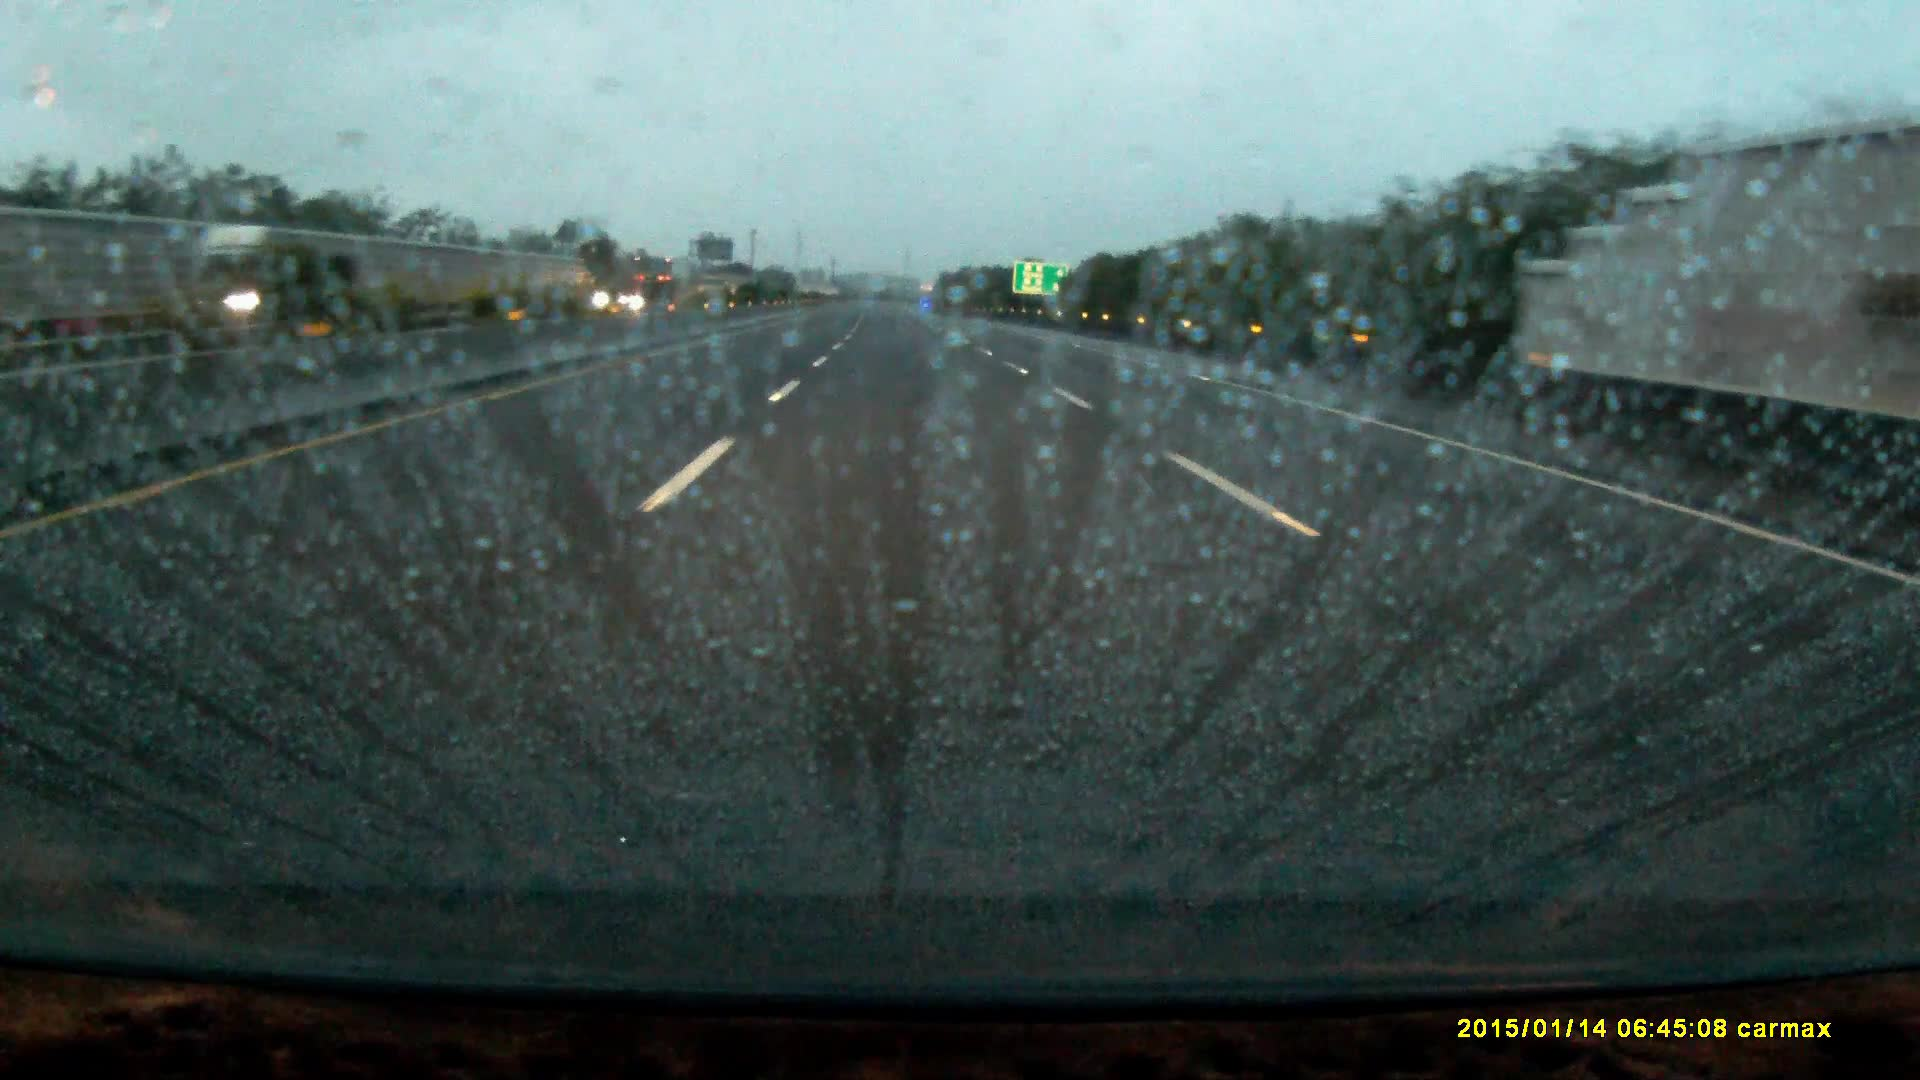vehicle: (185, 224, 343, 348), (629, 256, 692, 315)
